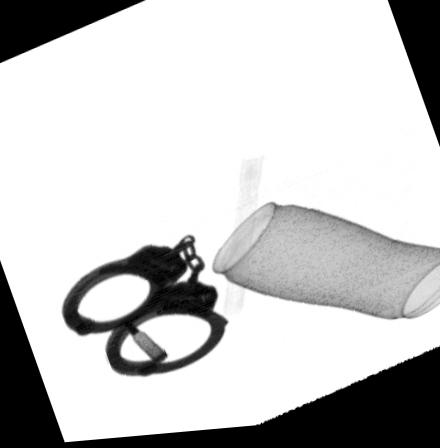Bullet: (125, 324, 167, 366)
HandCuffs: (59, 237, 230, 381)
